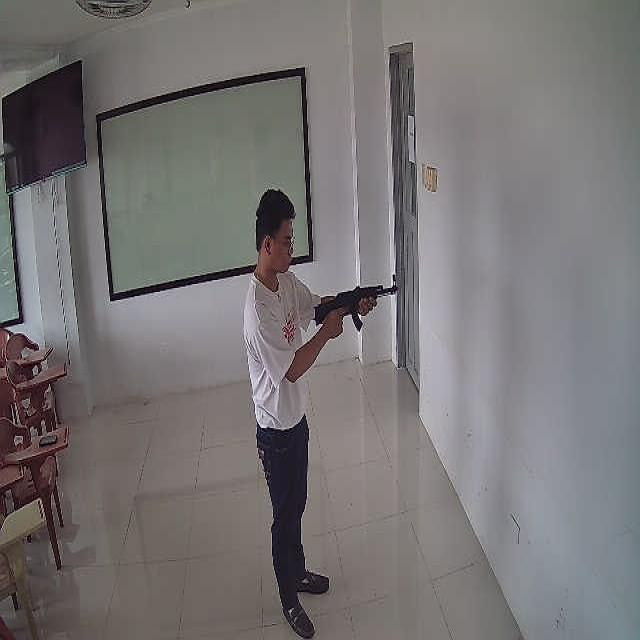rifle: (315, 275, 398, 332)
